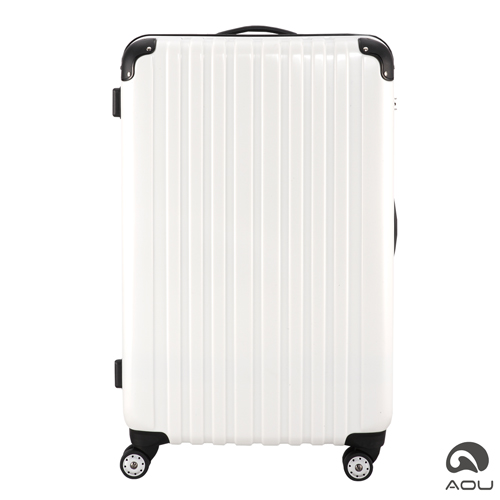suitcase: (111, 24, 400, 483)
